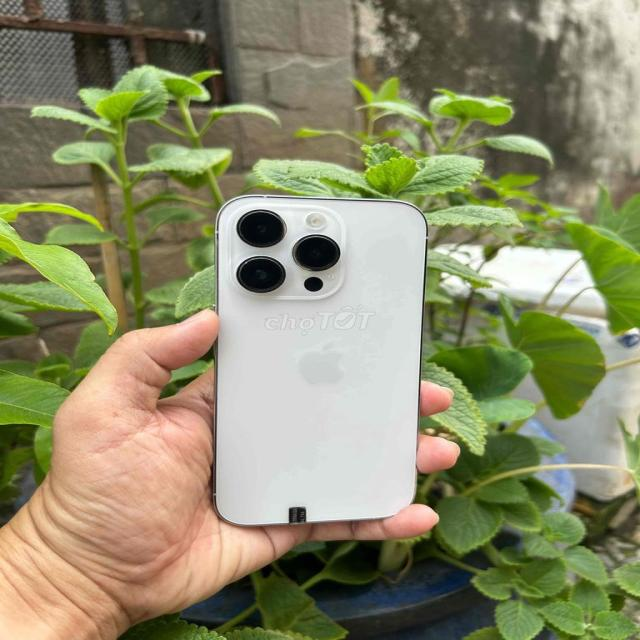gen_14: (196, 188, 436, 548)
